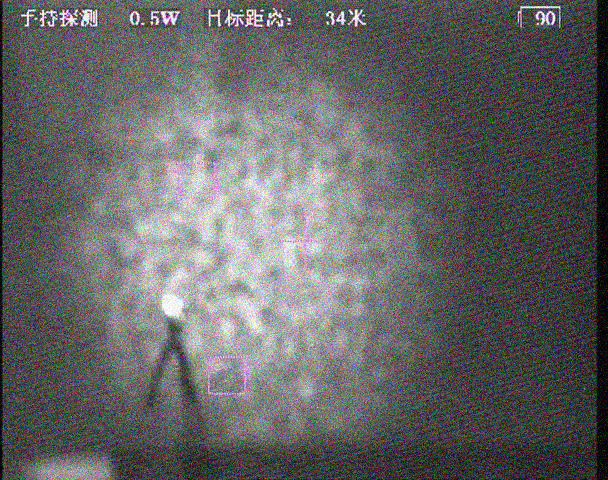my: (159, 293, 185, 319)
